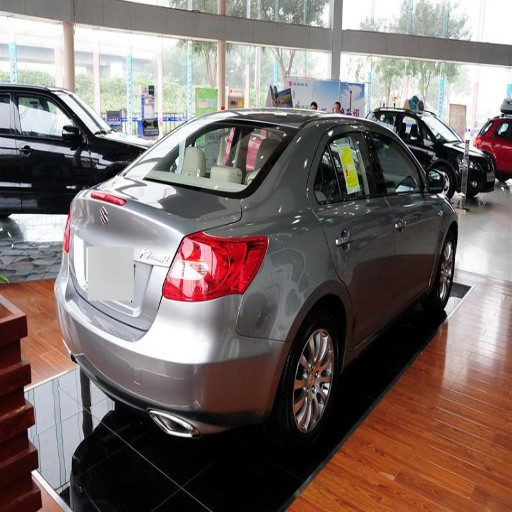back_bumper: (55, 274, 292, 440)
back_right_door: (309, 121, 396, 341)
